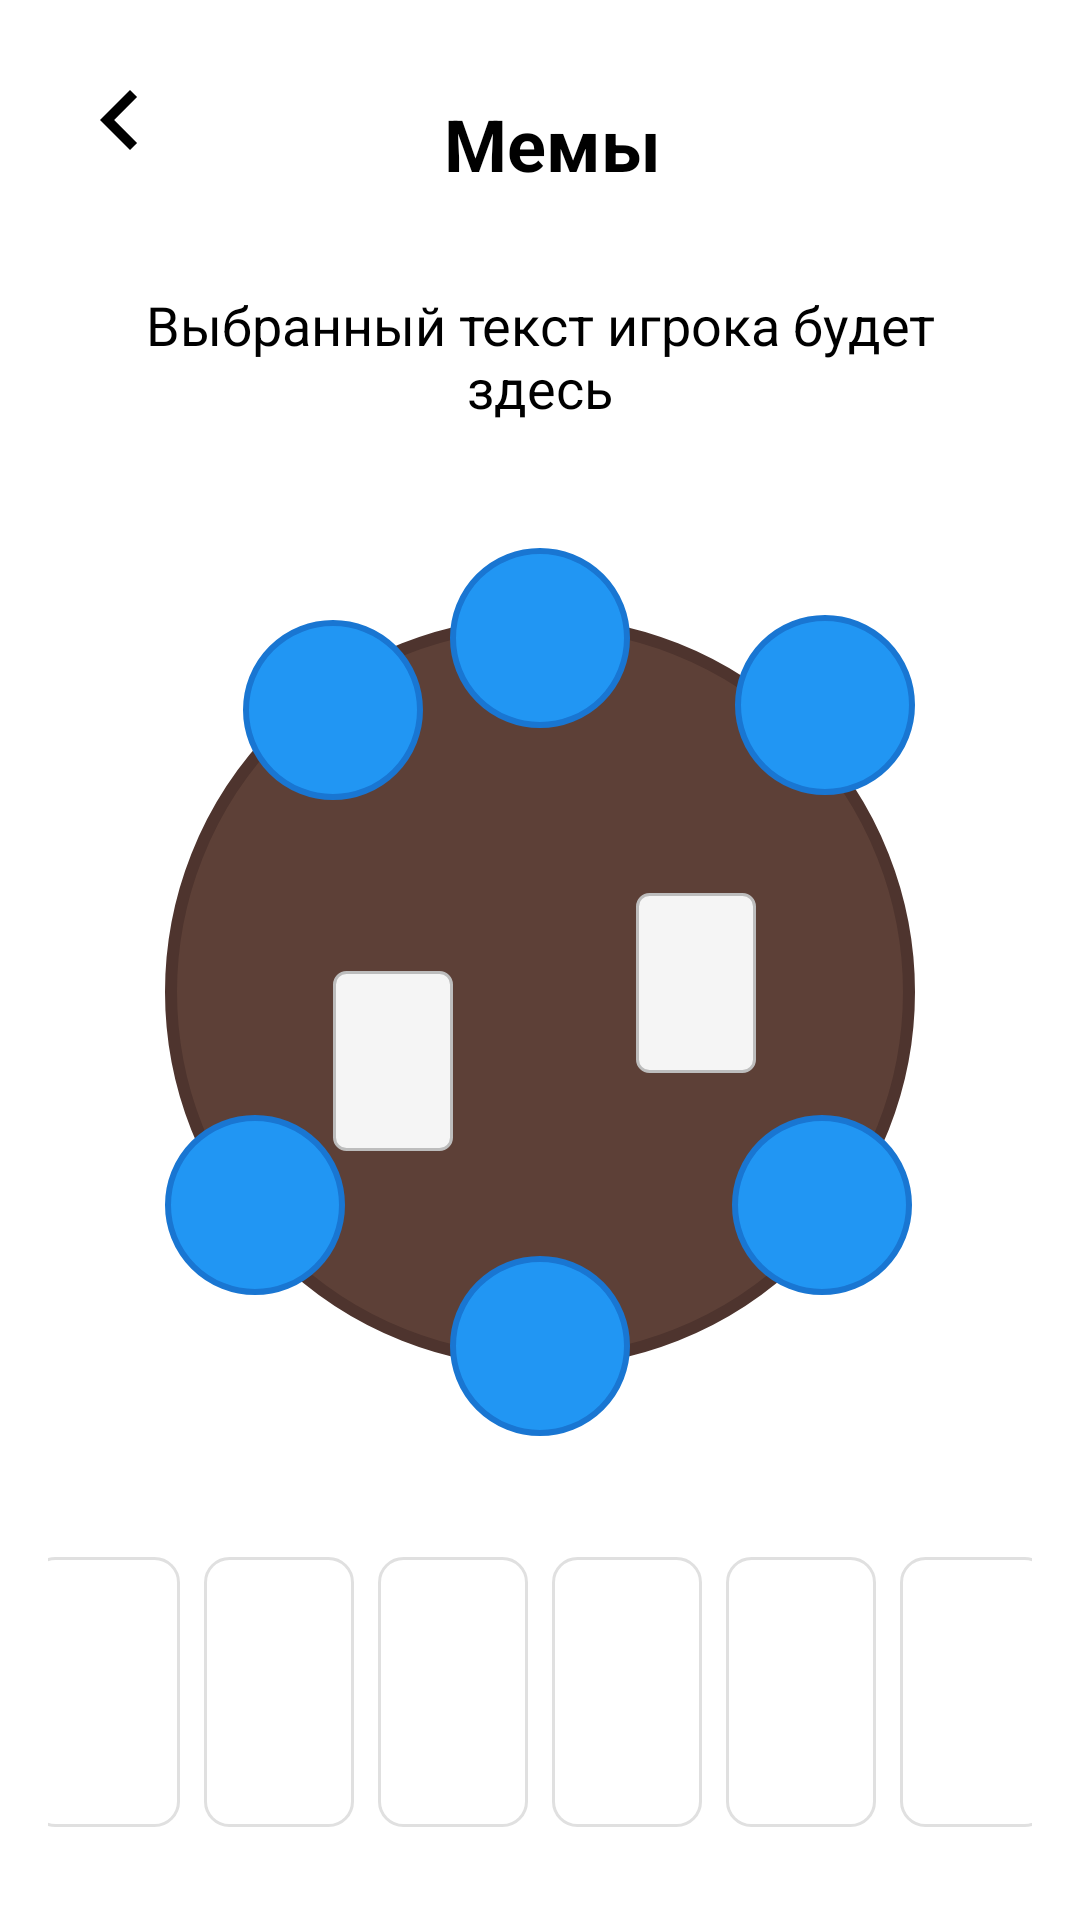

Where to tap for icons on this 1080 x 1920 app screen, as point (x, y):
back: point (118, 120)
